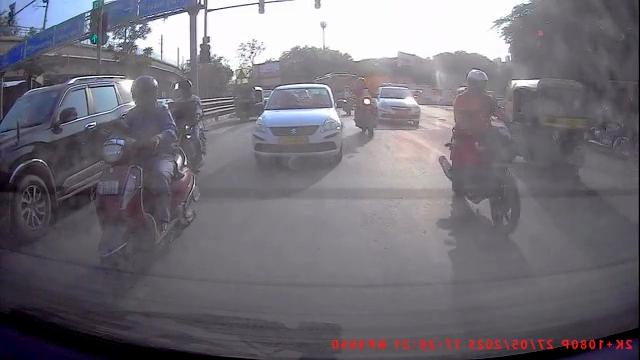motorcycle_with_helmet: (90, 73, 200, 302), (440, 66, 525, 236), (353, 77, 379, 140)
